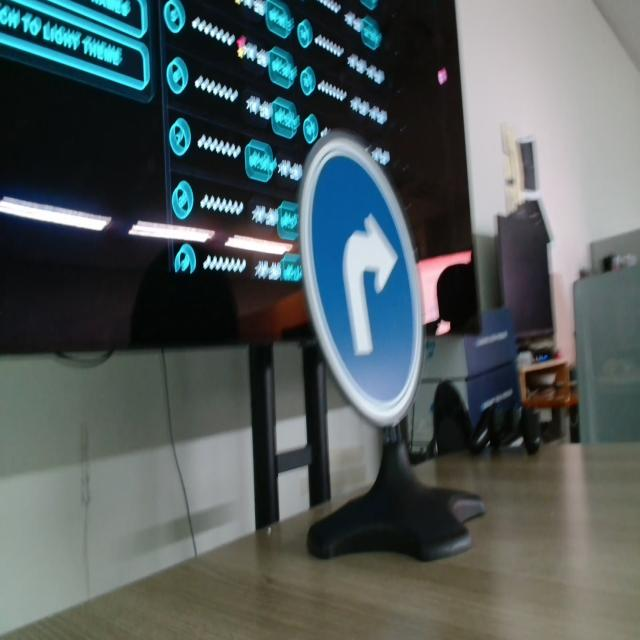right_dierection: (295, 120, 454, 436)
